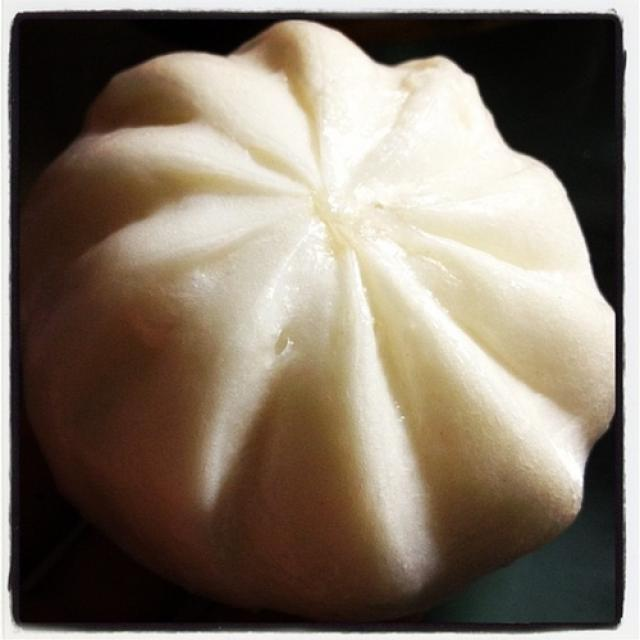带馅早点: (30, 23, 613, 604)
